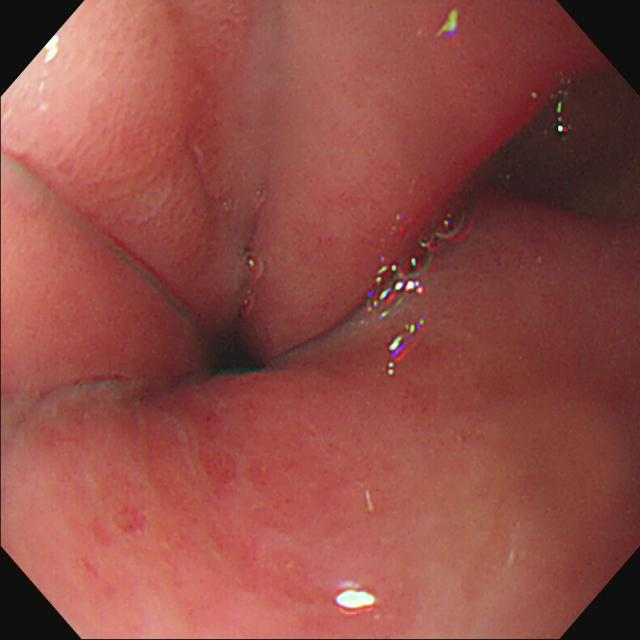A: (85, 24, 245, 195)
E: (214, 332, 267, 372)
T: (398, 215, 473, 282)
U: (366, 281, 425, 322), (387, 320, 426, 378), (336, 589, 376, 614)
